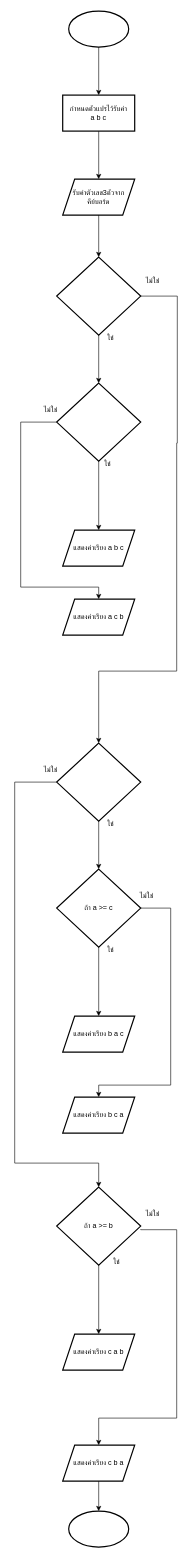
Image size: 193x1558. Some labels were removed from this diagram. The shapes that lost their labels are listed below. From the top down, each one's centre as x and y in pixels, then its label:
At pixel 98 28: "start".
At pixel 98 295: "ถ้่าa >=b and a >= c".
At pixel 98 421: "ถ้า b >= c".
At pixel 98 781: "ถ้า b >= a และ b >=c".
At pixel 98 1528: "end".
